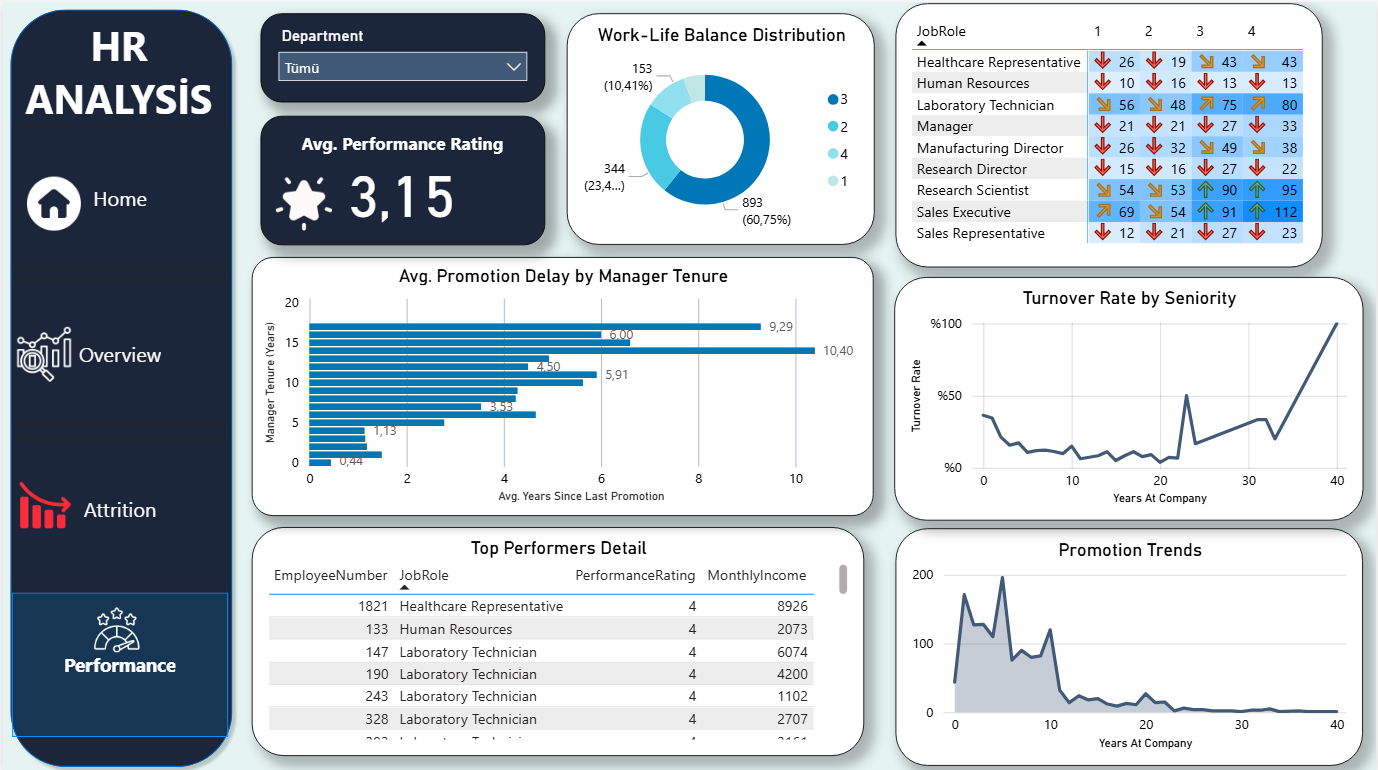

The dashboard page shown, as its layout file describes it:
{"tool":"powerbi","page":{"name":"Performance","canvas":[1280,720],"ordinal":3},"visuals":[{"type":"pivotTable","fields":{"Rows":["HR-Employee-Attrition.JobRole"],"Columns":["HR-Employee-Attrition.JobSatisfaction"],"Values":["CountNonNull(HR-Employee-Attrition.EmployeeNumber)"]},"box":[832.5,1.2,398.8,246.2],"z":0},{"type":"group","id":"g1","title":"Group 1","box":[240.4,105.9,265.8,120.5],"z":0,"group":"g2"},{"type":"donutChart","title":"Work-Life Balance Distribution","fields":{"Category":["HR-Employee-Attrition.WorkLifeBalance"],"Y":["CountNonNull(HR-Employee-Attrition.EmployeeNumber)"]},"box":[525.6,10,287.5,216.2],"z":1000},{"type":"image","box":[250,155,62.5,66.2],"z":1000,"group":"g2"},{"type":"areaChart","title":"Promotion Trends","fields":{"Category":["HR-Employee-Attrition.YearsAtCompany"],"Y":["CountNonNull(HR-Employee-Attrition.YearsSinceLastPromotion)"]},"box":[832.5,491.2,436.2,221.2],"z":2000},{"type":"lineChart","title":"Turnover Rate by Seniority","fields":{"Category":["HR-Employee-Attrition.YearsAtCompany"],"Y":["HR-Employee-Attrition.Turnover Oranı"]},"box":[831.2,256.2,437.5,227.5],"z":3000},{"type":"shape","box":[0,0,220.9,720.4],"z":4000},{"type":"pageNavigator","box":[8.5,115.9,202.1,572.3],"z":5000},{"type":"textbox","box":[0,10.3,216,127.9],"z":6000},{"type":"image","box":[8.8,436.2,60,66.2],"z":7000},{"type":"tableEx","title":"Top Performers Detail","fields":{"Values":["HR-Employee-Attrition.EmployeeNumber","HR-Employee-Attrition.JobRole","HR-Employee-Attrition.PerformanceRating","HR-Employee-Attrition.MonthlyIncome"]},"box":[232.5,490,571.2,213.8],"z":8000},{"type":"slicer","fields":{"Values":["HR-Employee-Attrition.Department"]},"box":[240.4,11,265.8,83.6],"z":9000},{"type":"clusteredBarChart","title":"Avg. Promotion Delay by Manager Tenure","fields":{"Category":["HR-Employee-Attrition.YearsWithCurrManager"],"Y":["Avg(HR-Employee-Attrition.YearsSinceLastPromotion)"]},"box":[232.5,237.5,580,241.2],"z":10000},{"type":"image","box":[77.5,560,58.8,52.5],"z":11000},{"type":"cardVisual","title":"Avg. Performance Rating","fields":{"Data":["Avg(HR-Employee-Attrition.PerformanceRating)"]},"box":[240.4,105.9,265.8,120.5],"z":12000,"group":"g1"},{"type":"image","box":[5,297.5,67.5,62.5],"z":12000},{"type":"image","box":[17.5,148.8,60,77.5],"z":13000},{"type":"group","id":"g2","title":"Group 2","box":[240.4,105.9,265.8,120.5],"z":14000}]}

Visuals, with their boxes in screenshot pixels (x1, y1, x2, y2), scaled from the page's 1280x720 canvas onto the 1378x770 screenshot:
pivotTable - HR-Employee-Attrition.JobRole x HR-Employee-Attrition.JobSatisfaction: (896,1,1326,265)
"Group 1" group: (259,113,545,242)
"Work-Life Balance Distribution" donutChart: (566,11,875,242)
image: (269,166,336,237)
"Promotion Trends" areaChart: (896,525,1366,762)
"Turnover Rate by Seniority" lineChart: (895,274,1366,517)
shape: (0,0,238,769)
pageNavigator: (9,124,227,736)
textbox: (0,11,233,148)
image: (9,466,74,537)
"Top Performers Detail" tableEx: (250,524,865,753)
slicer - HR-Employee-Attrition.Department: (259,12,545,101)
"Avg. Promotion Delay by Manager Tenure" clusteredBarChart: (250,254,875,512)
image: (83,599,147,655)
"Avg. Performance Rating" cardVisual: (259,113,545,242)
image: (5,318,78,385)
image: (19,159,83,242)
"Group 2" group: (259,113,545,242)
